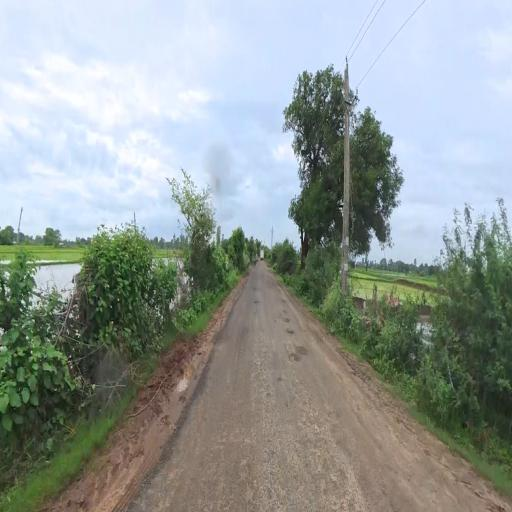edge_damage: (134, 391, 204, 509)
